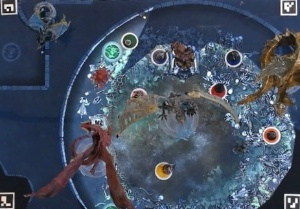blue: (223, 48, 244, 68)
green: (121, 30, 140, 50)
orange: (261, 125, 281, 144)
pink: (127, 84, 149, 104)
red: (209, 82, 229, 99)
violet: (150, 47, 171, 67)
yellow: (151, 158, 176, 183)
